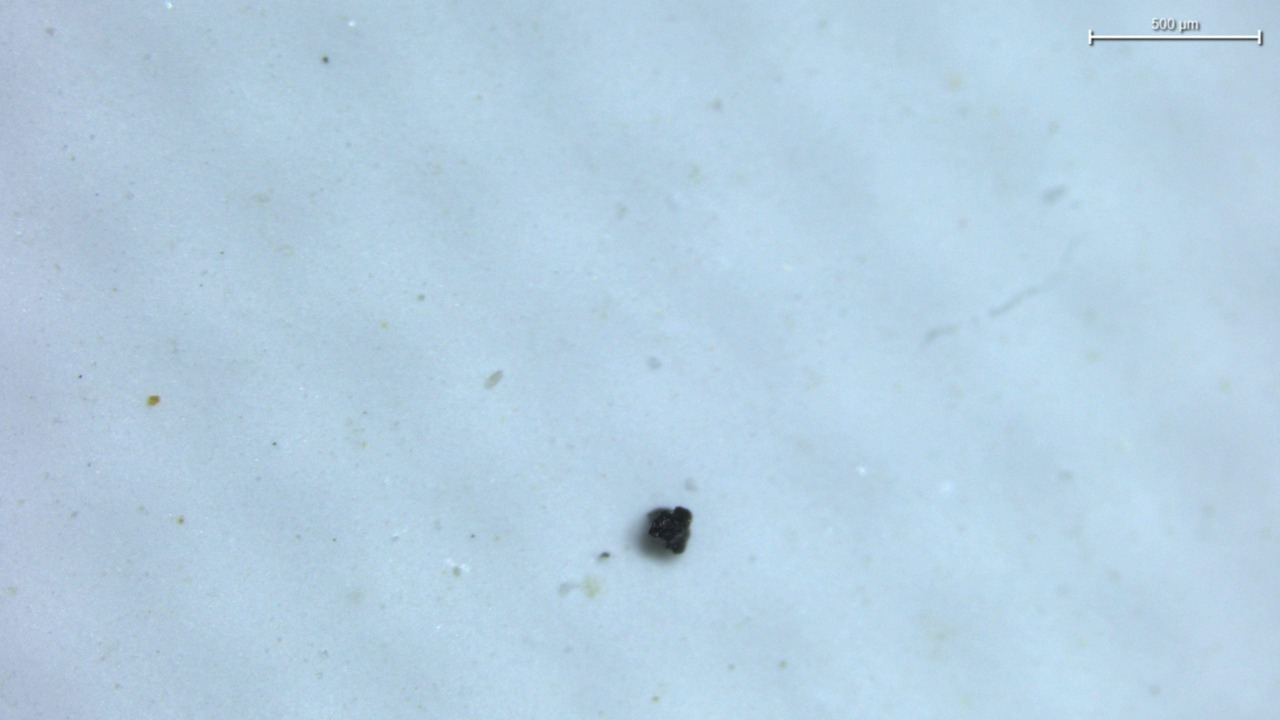microplastic_fragment: (648, 506, 692, 554)
